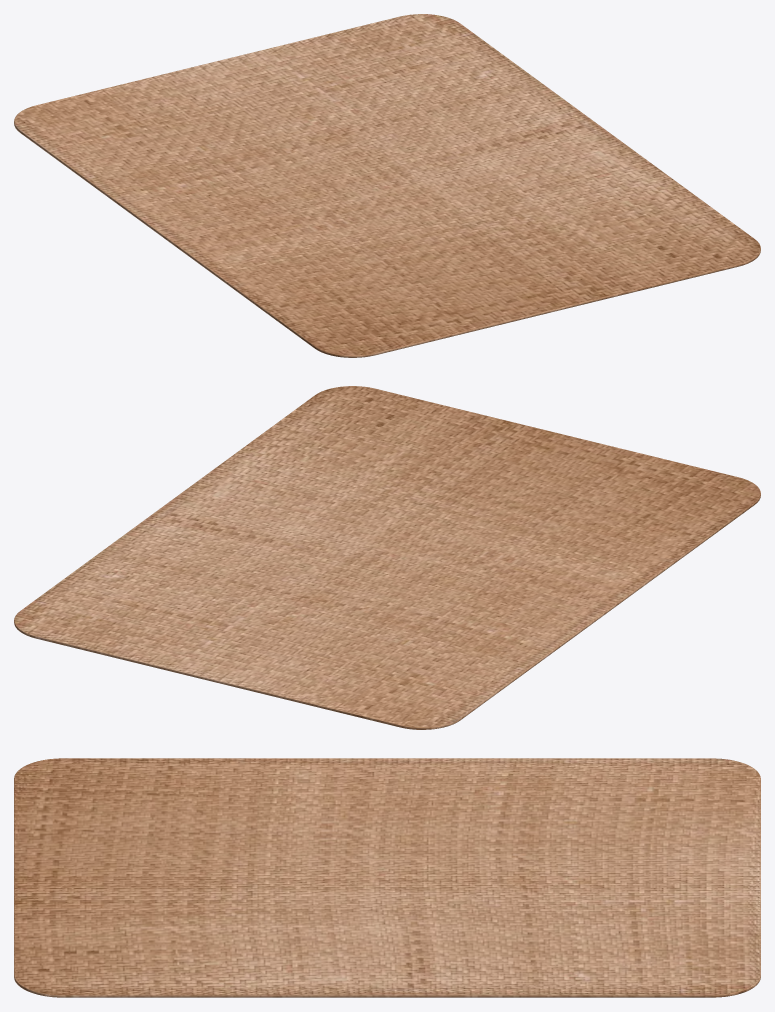
File: tapis_sdb.glb
The picture shows the model from 3 angles, top to bottom: view 1: azimuth 30°, elevation 25°; view 2: azimuth 150°, elevation 25°; view 3: azimuth 270°, elevation 25°; orthographic projection. The views are drawn at different scales.
Visible parts, largest first — view 1: Object_2; view 2: Object_2; view 3: Object_2.
Part boxes in pixels (x1,y1,x2,y2): Object_2: (14, 14, 760, 357); Object_2: (14, 386, 760, 729); Object_2: (14, 758, 760, 997).
Bounding box in the file's own units: 1.2 × 0.00663 × 1.6.
Materials: 1 (1 with a texture image).
